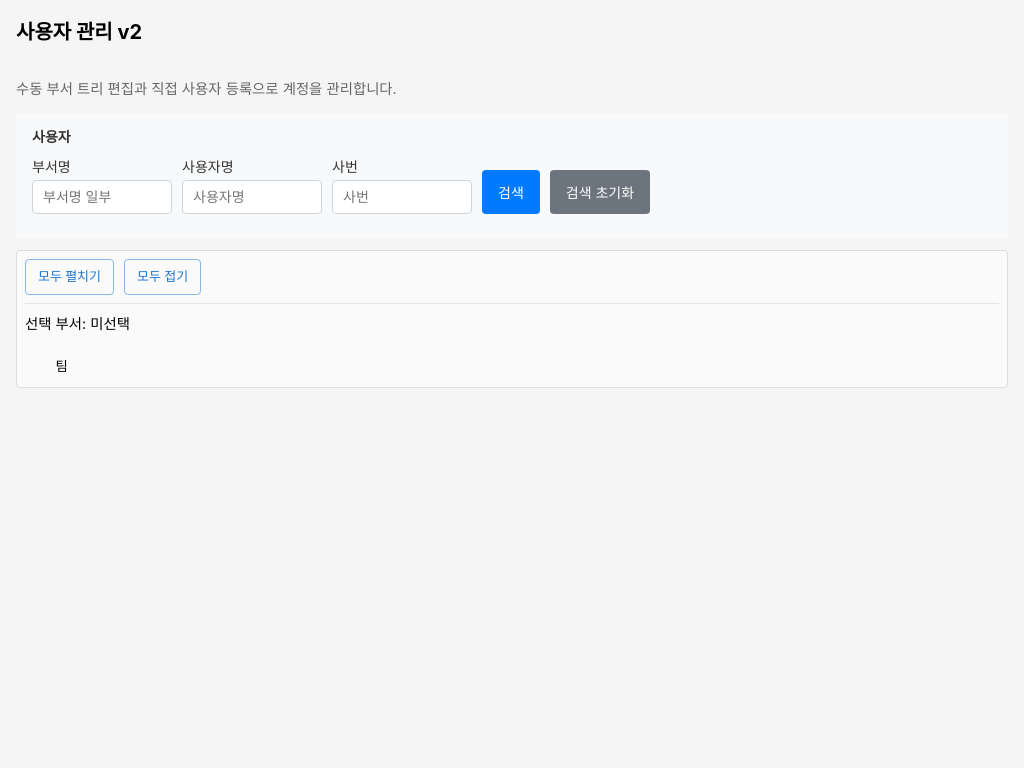
Test: UserManagement › TC-09: 최근값 선택 › 최근값 선택 드롭다운으로 사번/권한 그룹을 즉시 반영한다
Click the button "팀": coordinates (62, 366) [49,353,74,379]
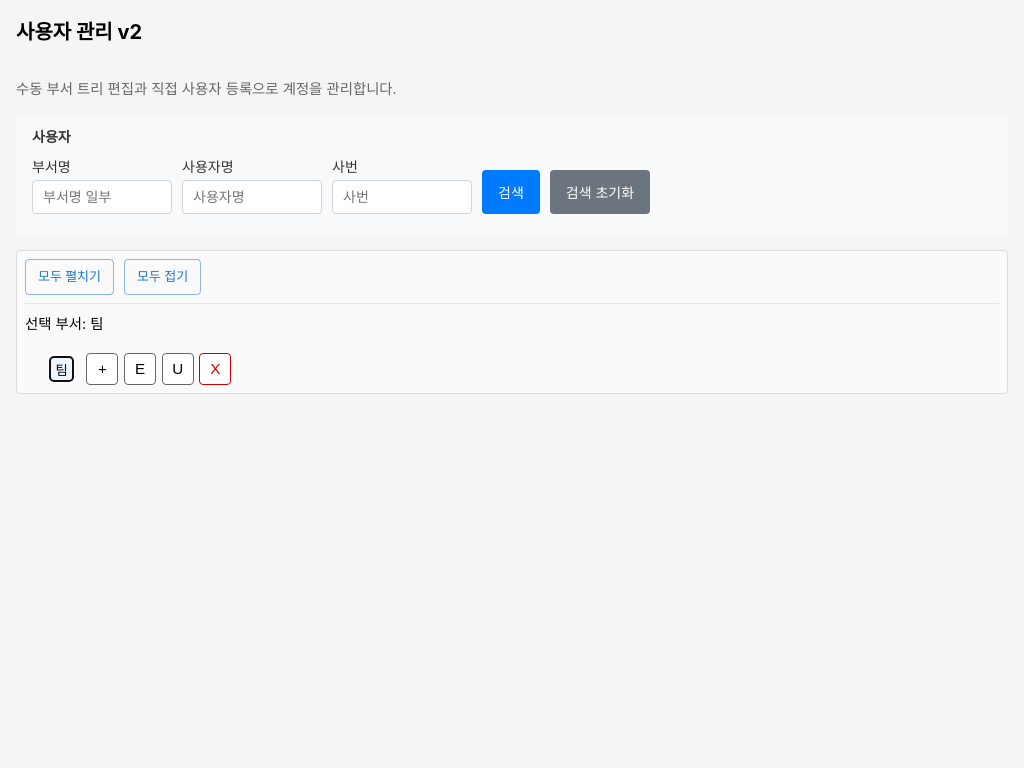
Click the button named "사용자 추가": coordinates (178, 369) [162,353,194,385]
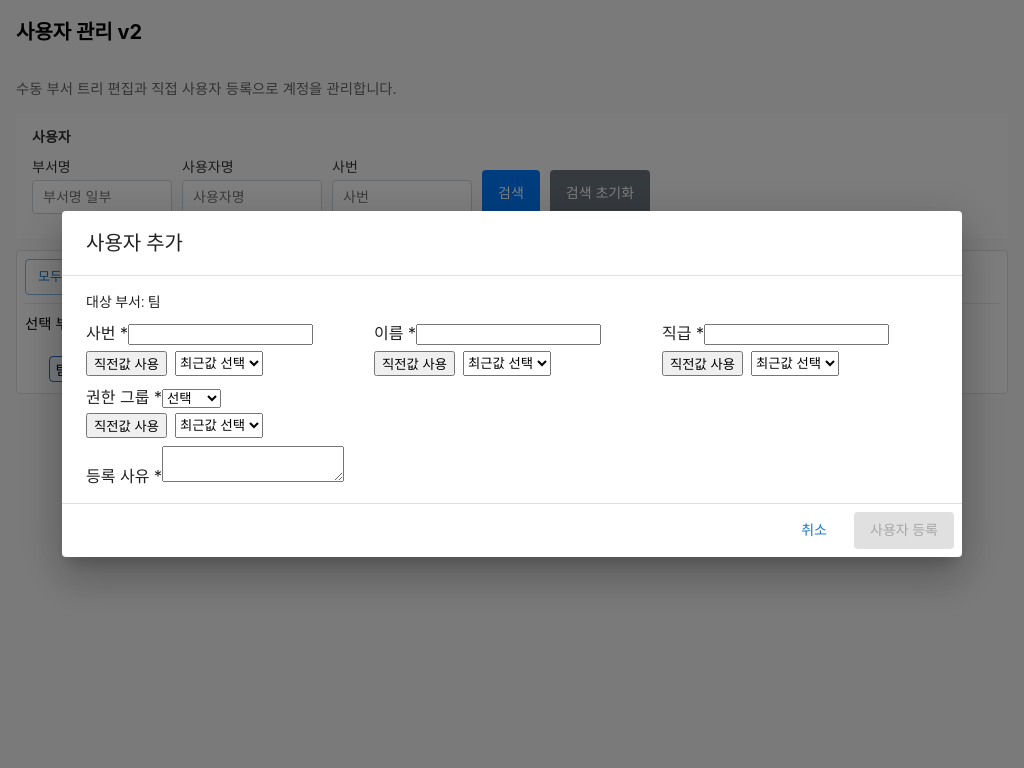
Now the dialog "사용자 추가" is shown, box [62,211,962,557]
Select "20265555" in the dropdown named "사번 최근값 선택": coordinates (219, 363) [175,351,263,376]
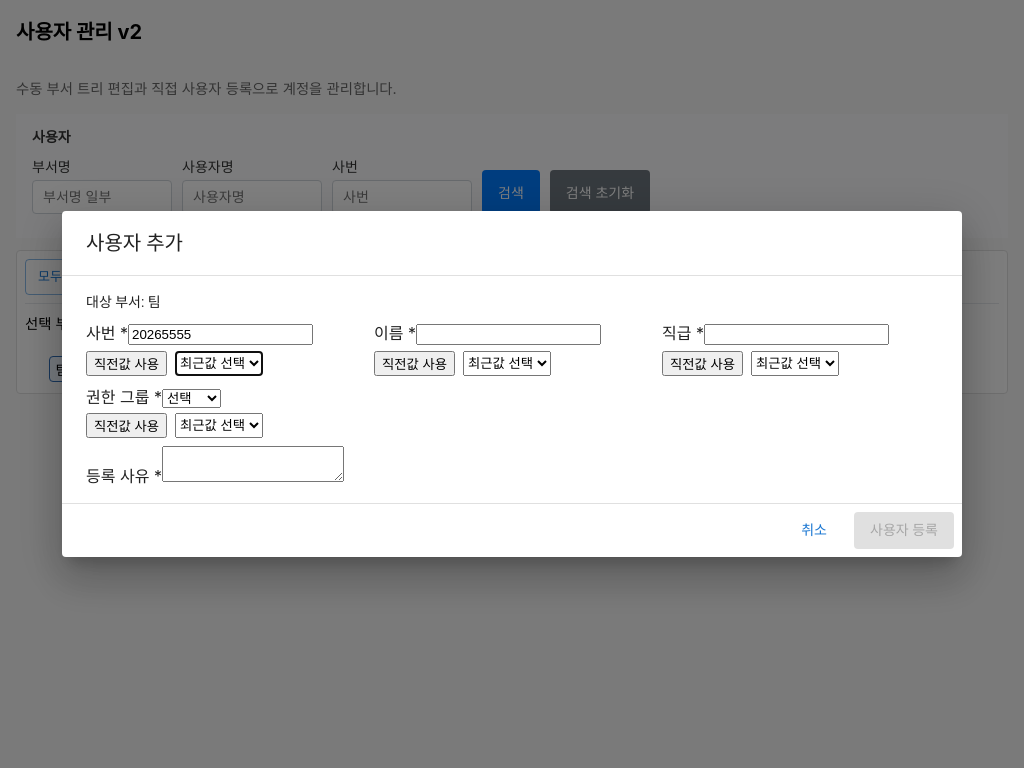
Now the field labelled "사번 *" holds "20265555", box [128,324,313,345]
Select "7" in the dropdown named "권한 최근값 선택": coordinates (219, 426) [175,413,263,438]
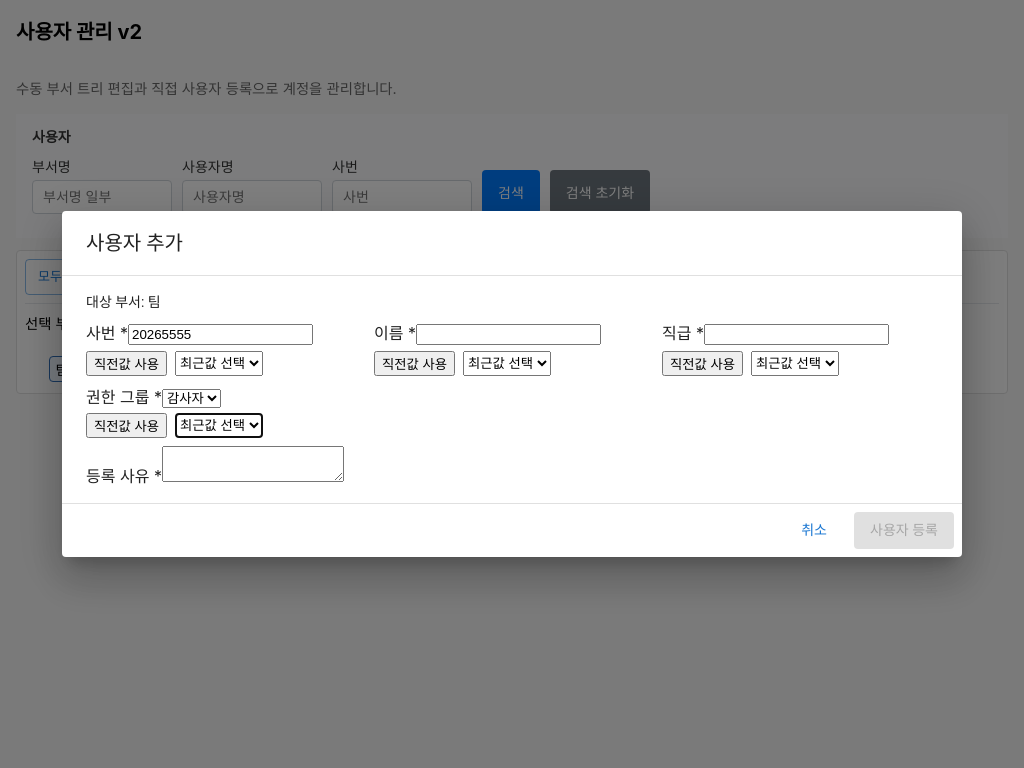
Now the dropdown labelled "권한 그룹 *" shows "감사자", box [162,389,221,408]
